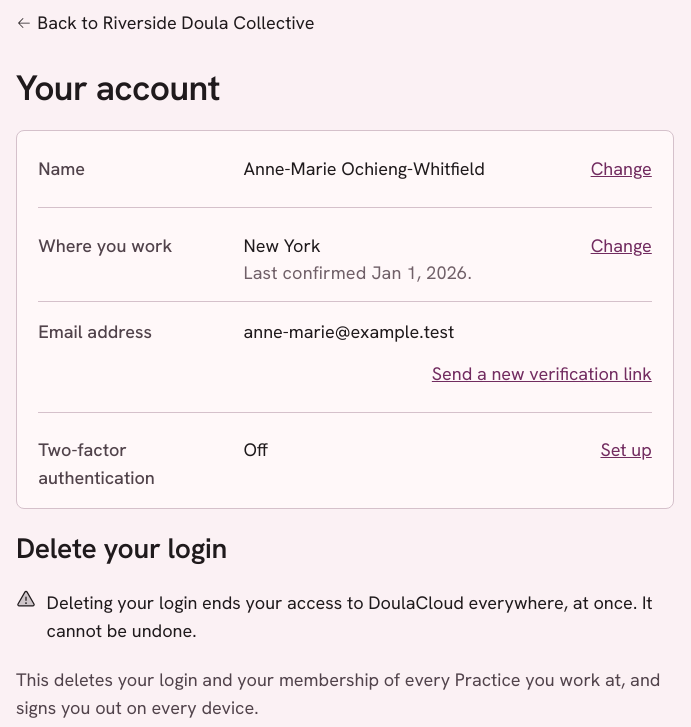
Test: the account summary › shows the server's own words when a resend is refused
Click the button "Send a new verification link". click: (542, 374)
box: [432, 352, 652, 396]
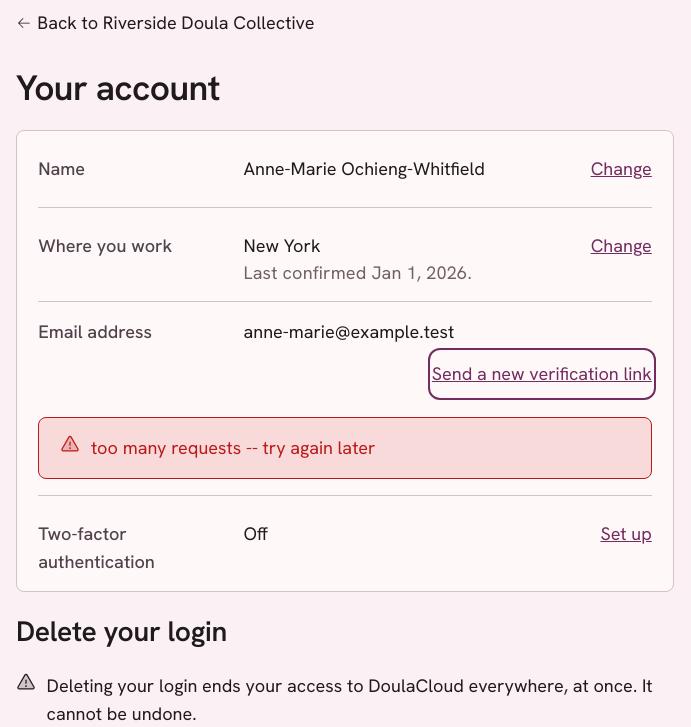
Now the message "too many requests -- try again later" is shown, box [38, 417, 652, 479]
